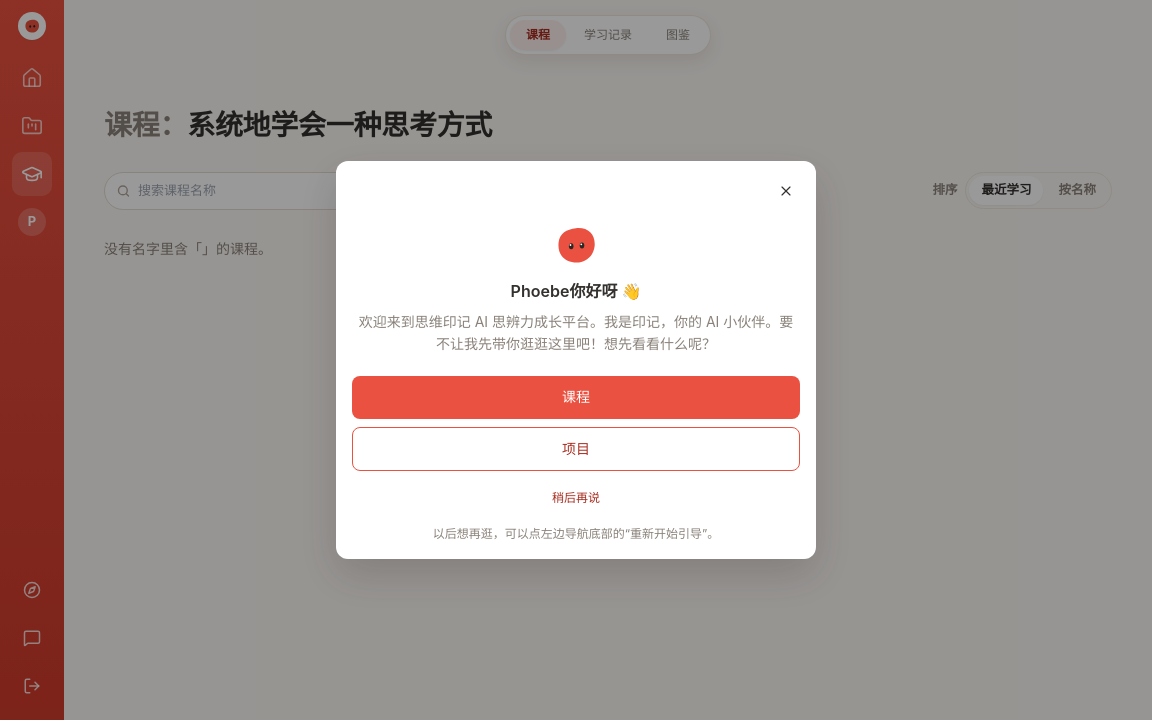
StudentApp onboarding › picking 项目 starts the tour on the projects group
Click the button "项目" at (576,449), box [352,426,800,471]
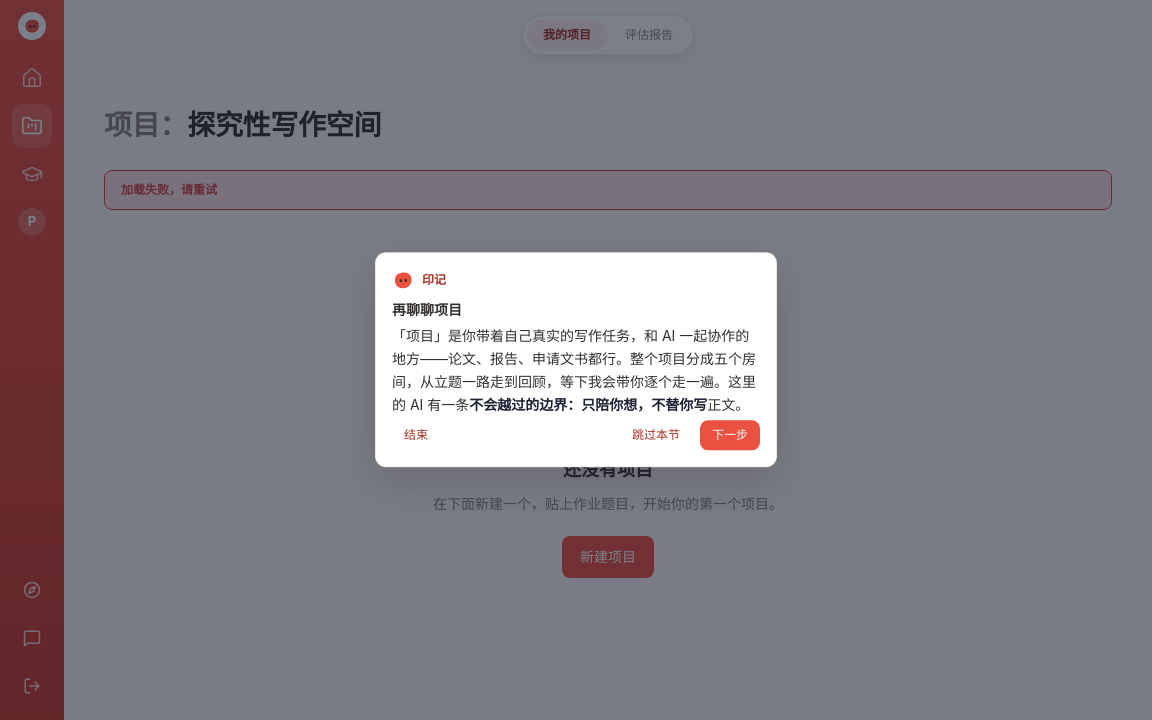
expect the text "再聊聊项目" is shown: met, box [392,301,462,318]
